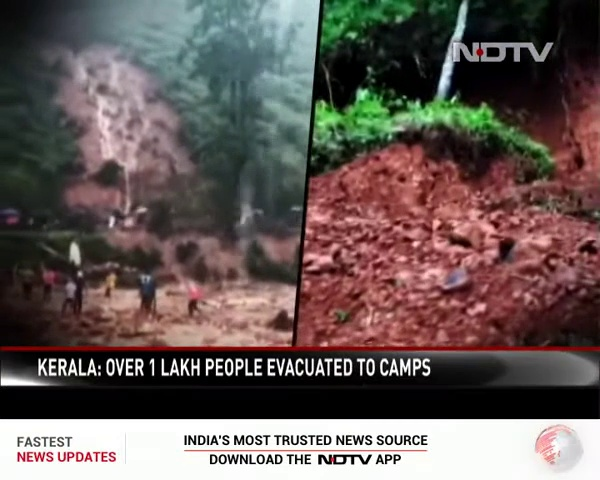person: (137, 269, 156, 316), (181, 276, 202, 318), (75, 272, 86, 311), (43, 268, 56, 298), (21, 266, 32, 299), (67, 276, 74, 317), (106, 268, 113, 299)
